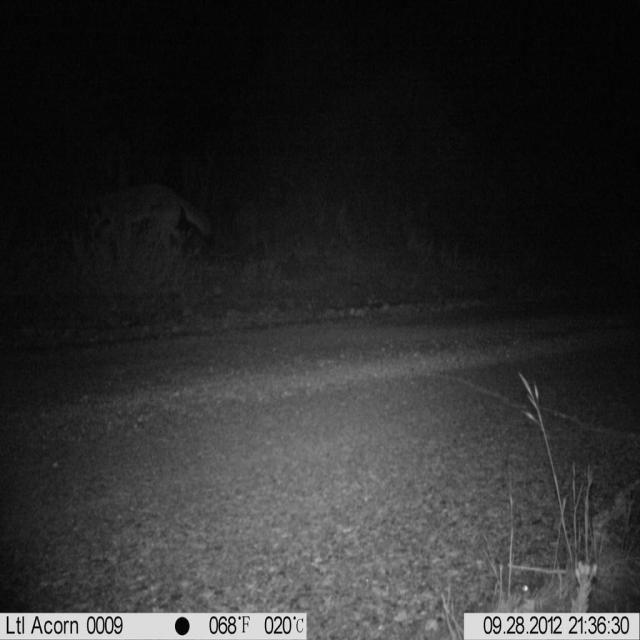coyote: (94, 179, 215, 263)
